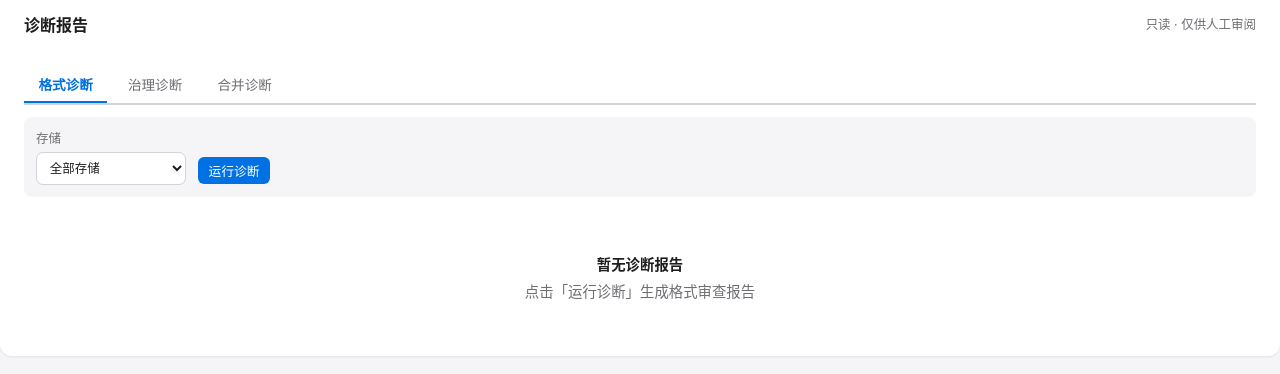
it: DiagnosticPanel report states › shows an error state when generation fails
Click the button "运行诊断".
click(234, 170)  # box [198,157,270,184]
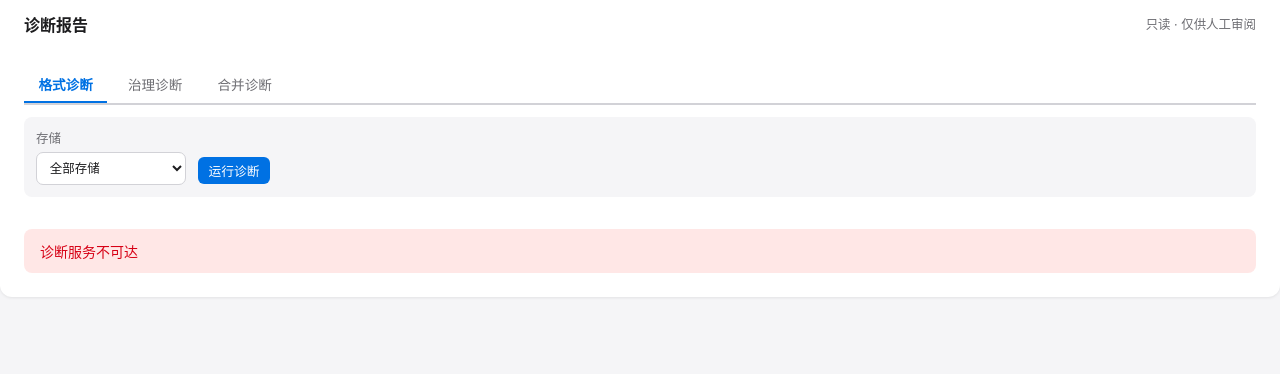
Expected: the message reads "诊断服务不可达", [40,243,138,260]
